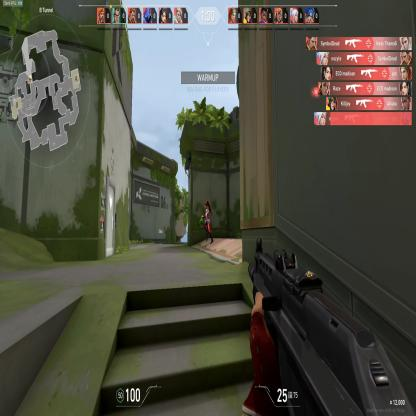enemy: (201, 199, 213, 245)
